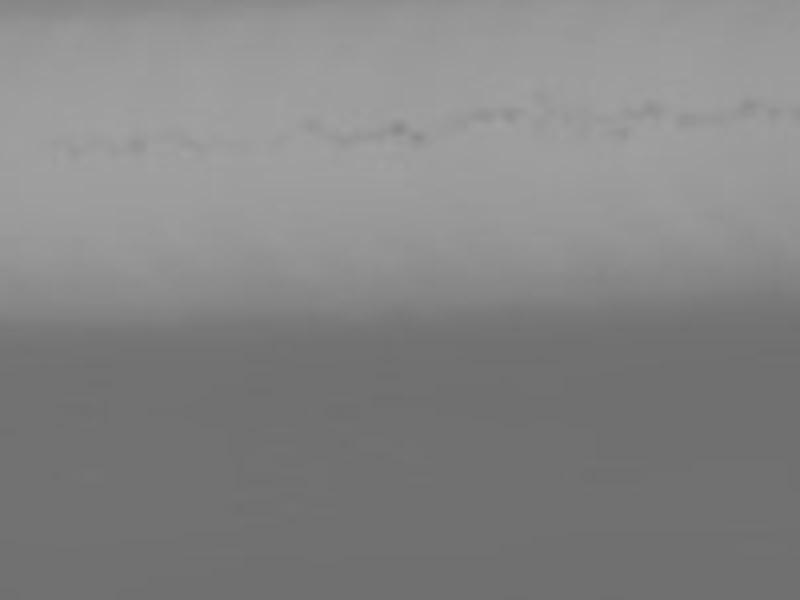defect: (639, 97, 664, 122), (675, 110, 697, 132), (735, 96, 756, 117), (471, 105, 490, 124), (302, 116, 320, 134), (529, 117, 547, 135), (700, 110, 718, 128), (64, 145, 82, 163), (388, 120, 405, 137), (327, 128, 344, 145), (350, 125, 367, 142), (503, 103, 520, 120), (764, 103, 781, 120), (410, 130, 426, 146), (131, 136, 147, 152), (367, 126, 383, 142), (180, 134, 195, 149), (612, 124, 627, 139), (531, 90, 546, 105), (623, 105, 636, 118), (561, 111, 574, 124), (595, 112, 605, 122)
